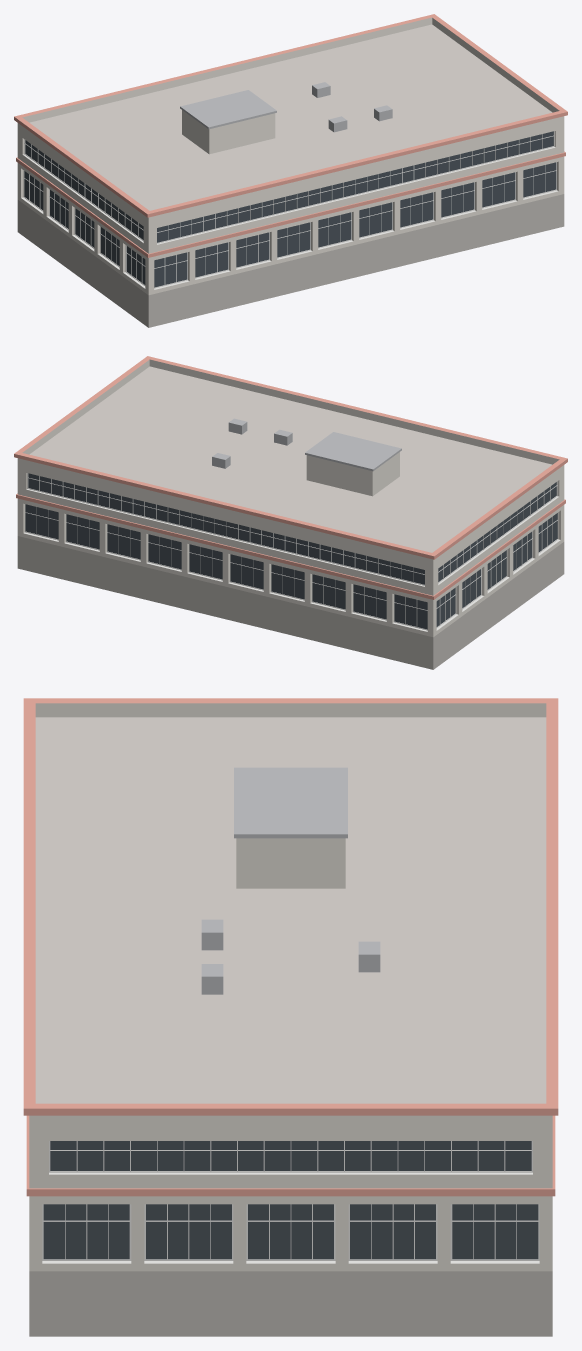
The model's file is office_2_xl.glb.
3 views of the same model, one above another, from view 1: azimuth 30°, elevation 25°; view 2: azimuth 150°, elevation 25°; view 3: azimuth 270°, elevation 25° (orthographic). The views are drawn at different scales.
Parts seen in each view (by area): view 1: office_2_xl; view 2: office_2_xl; view 3: office_2_xl.
Part boxes in pixels (x1,y1,x2,y2): office_2_xl: [14, 14, 567, 327]; office_2_xl: [14, 356, 567, 669]; office_2_xl: [23, 698, 558, 1336].
Size of the model in its own units: 44.5 by 13.75 by 24.5.
